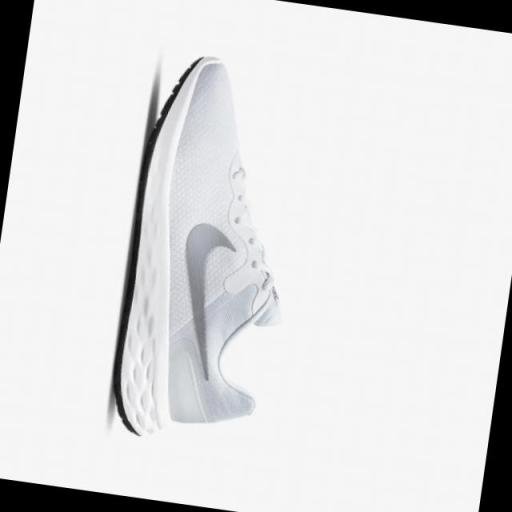Nike: (161, 218, 243, 387)
